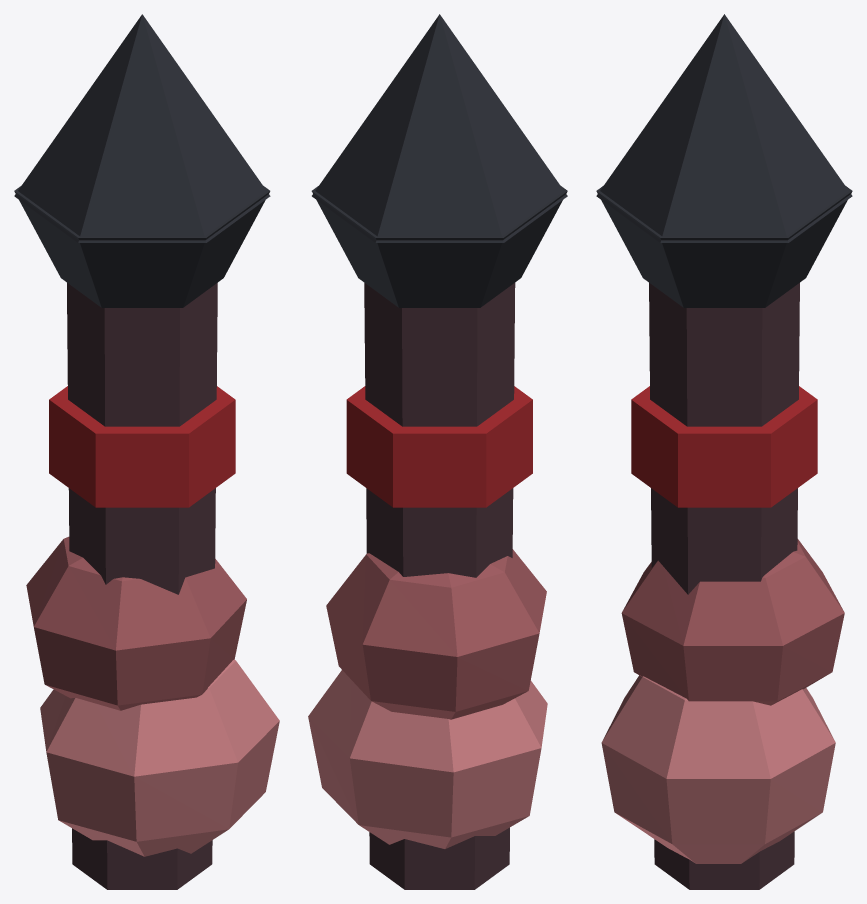
File: person_tool_biomutation.obj
3 views of the same model, side by side, from view 1: azimuth 30°, elevation 25°; view 2: azimuth 150°, elevation 25°; view 3: azimuth 270°, elevation 25° (orthographic).
Size of the model in its own units: 0.0843 by 0.322 by 0.088.
